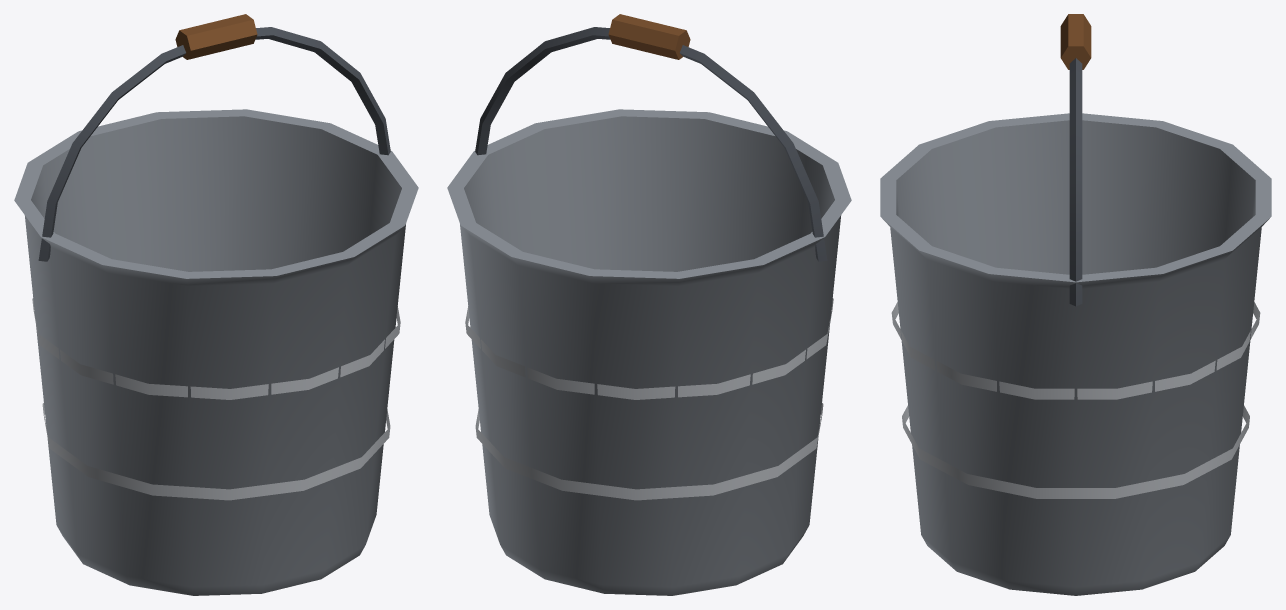
The model's file is SM_Bucket_Metal.glb.
3 views of the same model, side by side, from view 1: azimuth 30°, elevation 25°; view 2: azimuth 150°, elevation 25°; view 3: azimuth 270°, elevation 25° (orthographic).
Parts seen in each view (by area): view 1: SM_Bucket_Metal; view 2: SM_Bucket_Metal; view 3: SM_Bucket_Metal.
Boxes of the visible parts, left/top/right/bottom form: SM_Bucket_Metal: left=14, top=14, right=418, bottom=595; SM_Bucket_Metal: left=447, top=14, right=851, bottom=595; SM_Bucket_Metal: left=880, top=14, right=1271, bottom=595.
Size of the model in its own units: 0.32 by 0.4354 by 0.3081.
1 material, 1 textured.
